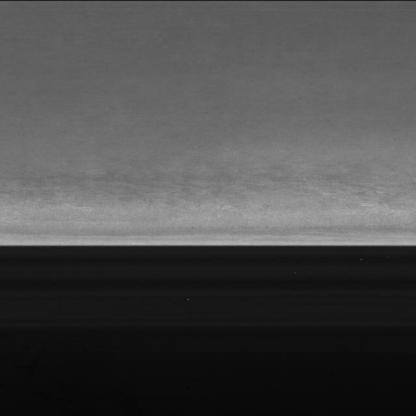silk_spot: (73, 150, 398, 211)
